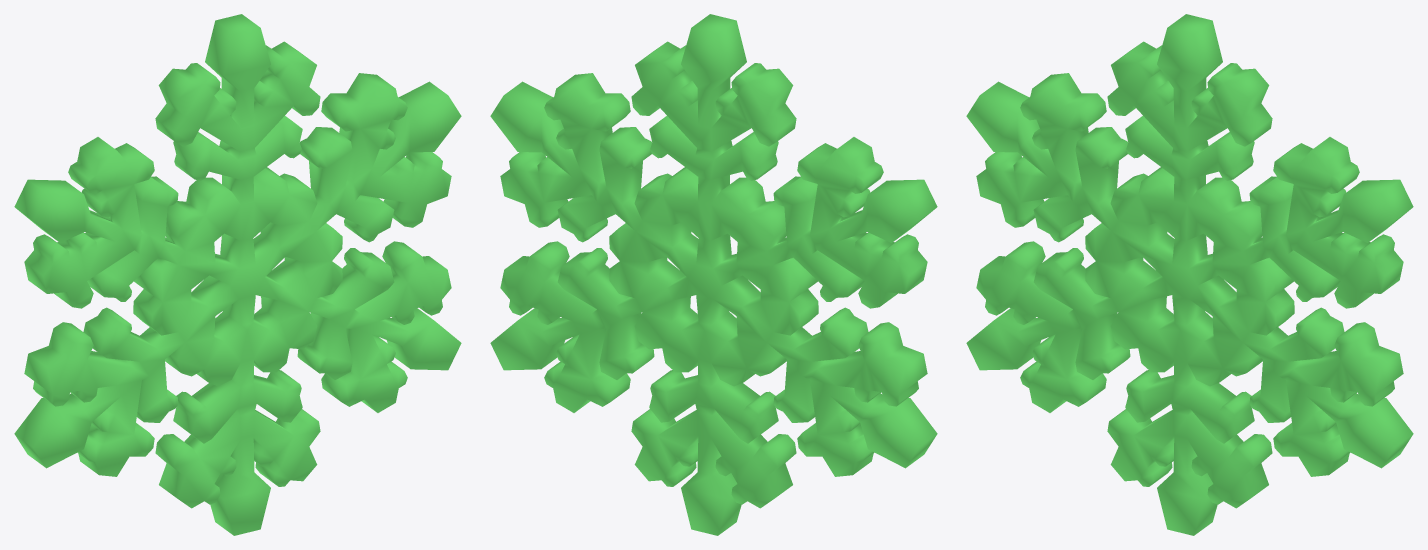
The model's file is northface_02.glb.
3 renders of one model, left to right at view 1: azimuth 30°, elevation 25°; view 2: azimuth 150°, elevation 25°; view 3: azimuth 330°, elevation 25°, orthographic.
Parts seen in each view (by area): view 1: Plane.001; view 2: Plane.001; view 3: Plane.001.
Boxes of the visible parts, x1,y1,x2,y2 form: Plane.001: (14, 14, 461, 535); Plane.001: (490, 14, 937, 535); Plane.001: (966, 14, 1413, 535).
Size of the model in its own units: 1.05 by 1.17 by 0.0799.
